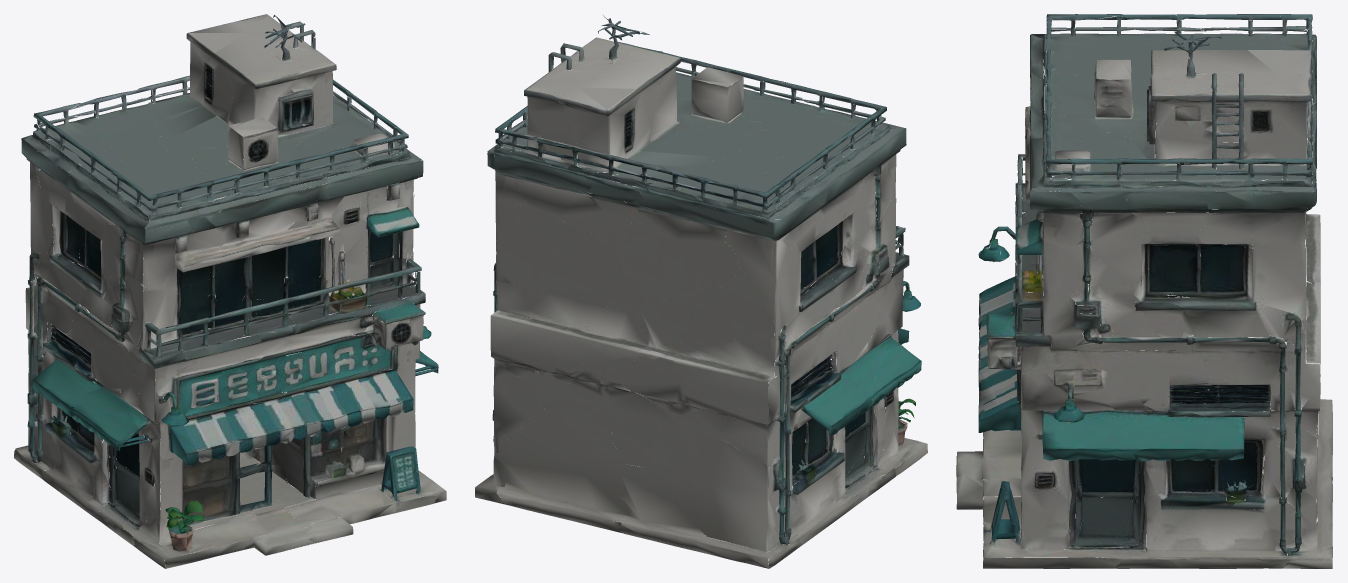
The model's file is building4.glb.
3 views of the same model, side by side, from view 1: azimuth 30°, elevation 25°; view 2: azimuth 150°, elevation 25°; view 3: azimuth 270°, elevation 25° (orthographic). The views are drawn at different scales.
Visible parts, largest first — view 1: tripo_node_fda68afc-b3b2-4933-b97b-1450896ce0bf; view 2: tripo_node_fda68afc-b3b2-4933-b97b-1450896ce0bf; view 3: tripo_node_fda68afc-b3b2-4933-b97b-1450896ce0bf.
Boxes of the visible parts, <box> form: tripo_node_fda68afc-b3b2-4933-b97b-1450896ce0bf: <box>14,14,446,568</box>; tripo_node_fda68afc-b3b2-4933-b97b-1450896ce0bf: <box>475,15,927,568</box>; tripo_node_fda68afc-b3b2-4933-b97b-1450896ce0bf: <box>956,14,1332,568</box>.
Bounding box in the file's own units: 0.7884 × 1 × 0.6914.
Materials: 1 (1 with a texture image).
